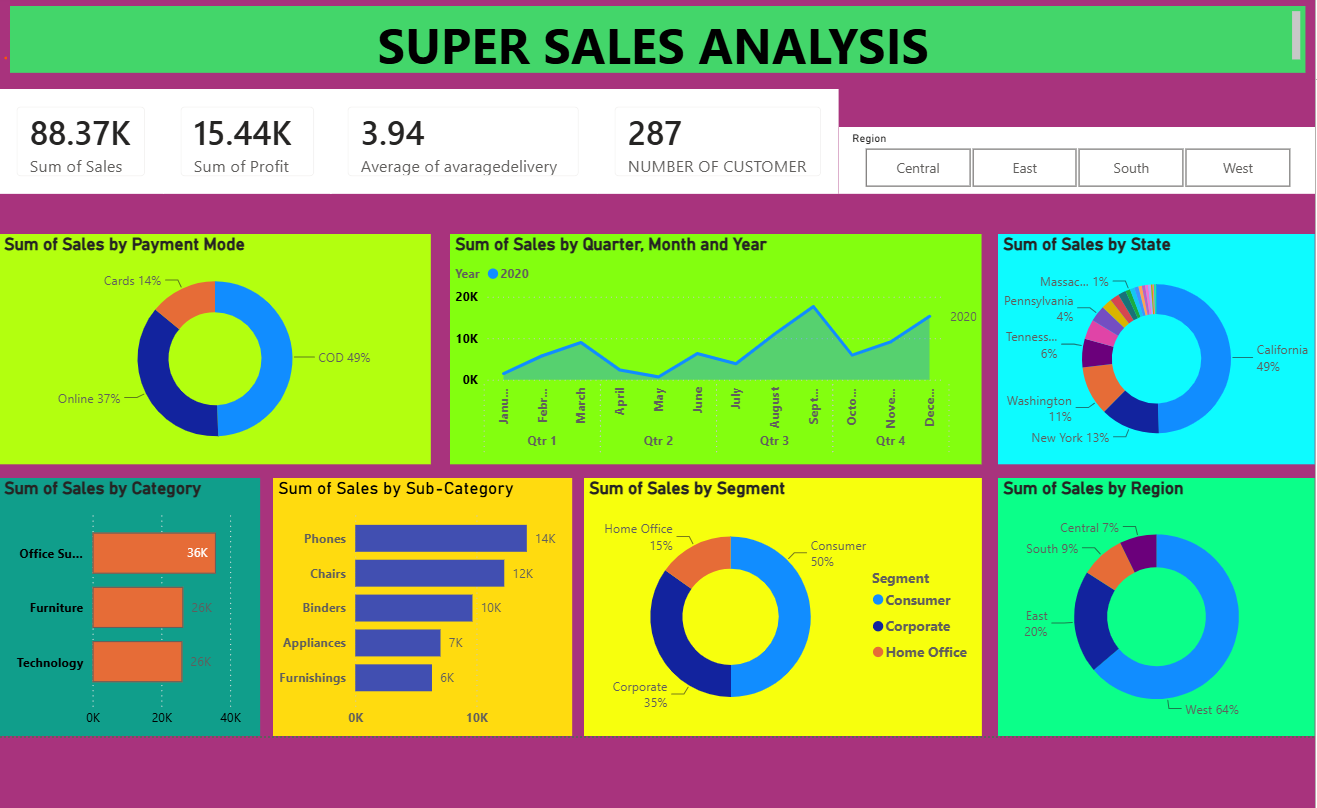

The page's visual inventory and layout, read from the dashboard file:
{"tool":"powerbi","page":{"name":"Page 1","canvas":[1280,720],"ordinal":0},"visuals":[{"type":"clusteredBarChart","fields":{"Category":["Sheet1.Category"],"Y":["Sum(Sheet1.Sales)"]},"box":[0,468.8,253.9,250.9],"z":0},{"type":"clusteredBarChart","fields":{"Category":["Sheet1.Sub-Category"],"Y":["Sum(Sheet1.Sales)"]},"box":[266.5,468.8,290.8,250.9],"z":1000},{"type":"stackedAreaChart","fields":{"Y":["Sum(Sheet1.Sales)"],"Category":["Sheet1.Order Date.Variation.Date Hierarchy.Quarter","Sheet1.Order Date.Variation.Date Hierarchy.Month","Sheet1.Order Date.Variation.Date Hierarchy.Day"],"Series":["Sheet1.Order Date.Variation.Date Hierarchy.Year"]},"box":[438.7,231.5,517.4,223.7],"z":2000},{"type":"donutChart","fields":{"Category":["Sheet1.Segment"],"Y":["Sum(Sheet1.Sales)"]},"box":[569,468.8,387.1,250.9],"z":3000},{"type":"donutChart","fields":{"Category":["Sheet1.Payment Mode"],"Y":["Sum(Sheet1.Sales)"]},"box":[0,231.5,420.2,223.7],"z":4000},{"type":"donutChart","fields":{"Category":["Sheet1.Region"],"Y":["Sum(Sheet1.Sales)"]},"box":[971.7,468.8,308.3,250.9],"z":5000},{"type":"donutChart","fields":{"Category":["Sheet1.State"],"Y":["Sum(Sheet1.Sales)"]},"box":[971.7,231.5,308.3,223.7],"z":6000},{"type":"slicer","fields":{"Values":["Sheet1.Region"]},"box":[817,127.4,463,65.2],"z":7000},{"type":"cardVisual","fields":{"Data":["Sum(Sheet1.Sales)"]},"box":[0,90.5,159.5,102.1],"z":9000},{"type":"cardVisual","fields":{"Data":["Sum(Sheet1.Profit)"]},"box":[159.5,90.5,164.4,102.1],"z":10000},{"type":"cardVisual","fields":{"Data":["Avg(Sheet1.avaragedelivery)"]},"box":[321.9,90.5,259.7,102.1],"z":11000},{"type":"textbox","box":[10.7,9.7,1259.6,65.2],"z":11001},{"type":"cardVisual","fields":{"Data":["Sheet1.NUMBER OF CUSTOMER"]},"box":[581.6,90.5,235.4,102.1],"z":11002}]}

Visuals, with their boxes in screenshot pixels (x1, y1, x2, y2):
clusteredBarChart - Sheet1.Category x Sum(Sheet1.Sales): bbox=(7, 472, 264, 727)
clusteredBarChart - Sheet1.Sub-Category x Sum(Sheet1.Sales): bbox=(277, 472, 572, 727)
stackedAreaChart - Sum(Sheet1.Sales) x Sheet1.Order Date.Variation.Date Hierarchy.Quarter: bbox=(452, 231, 977, 458)
donutChart - Sheet1.Segment x Sum(Sheet1.Sales): bbox=(584, 472, 977, 727)
donutChart - Sheet1.Payment Mode x Sum(Sheet1.Sales): bbox=(7, 231, 433, 458)
donutChart - Sheet1.Region x Sum(Sheet1.Sales): bbox=(993, 472, 1306, 727)
donutChart - Sheet1.State x Sum(Sheet1.Sales): bbox=(993, 231, 1306, 458)
slicer - Sheet1.Region: bbox=(836, 126, 1306, 192)
cardVisual - Sum(Sheet1.Sales): bbox=(7, 88, 169, 192)
cardVisual - Sum(Sheet1.Profit): bbox=(169, 88, 336, 192)
cardVisual - Avg(Sheet1.avaragedelivery): bbox=(333, 88, 597, 192)
textbox: bbox=(18, 6, 1296, 73)
cardVisual - Sheet1.NUMBER OF CUSTOMER: bbox=(597, 88, 836, 192)
